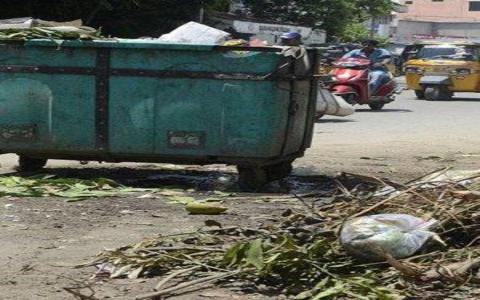overflowing garbage: (4, 37, 376, 275)
